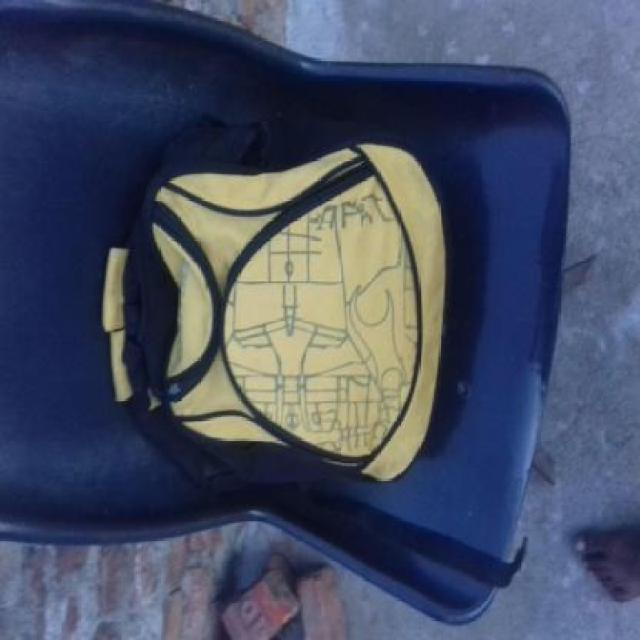backpack: (96, 108, 467, 506)
